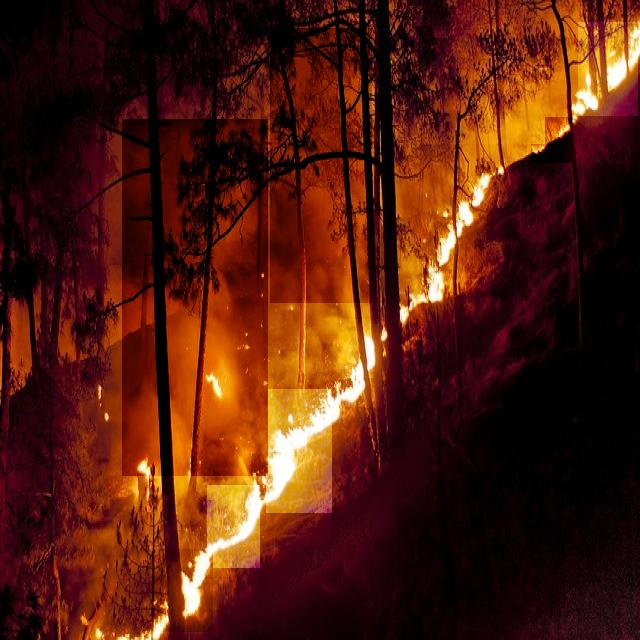Fire: (399, 165, 495, 320), (266, 389, 332, 513), (578, 22, 638, 116), (152, 549, 213, 632), (207, 485, 260, 568), (342, 324, 382, 407), (531, 117, 572, 163), (204, 369, 226, 412)
Smoke: (122, 119, 268, 476), (270, 28, 372, 303), (395, 6, 545, 144)
